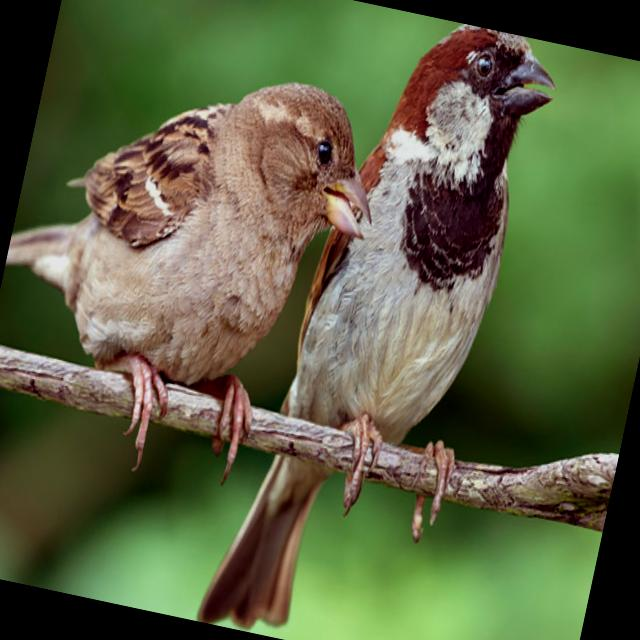bird: (178, 0, 567, 640), (0, 24, 398, 509)
